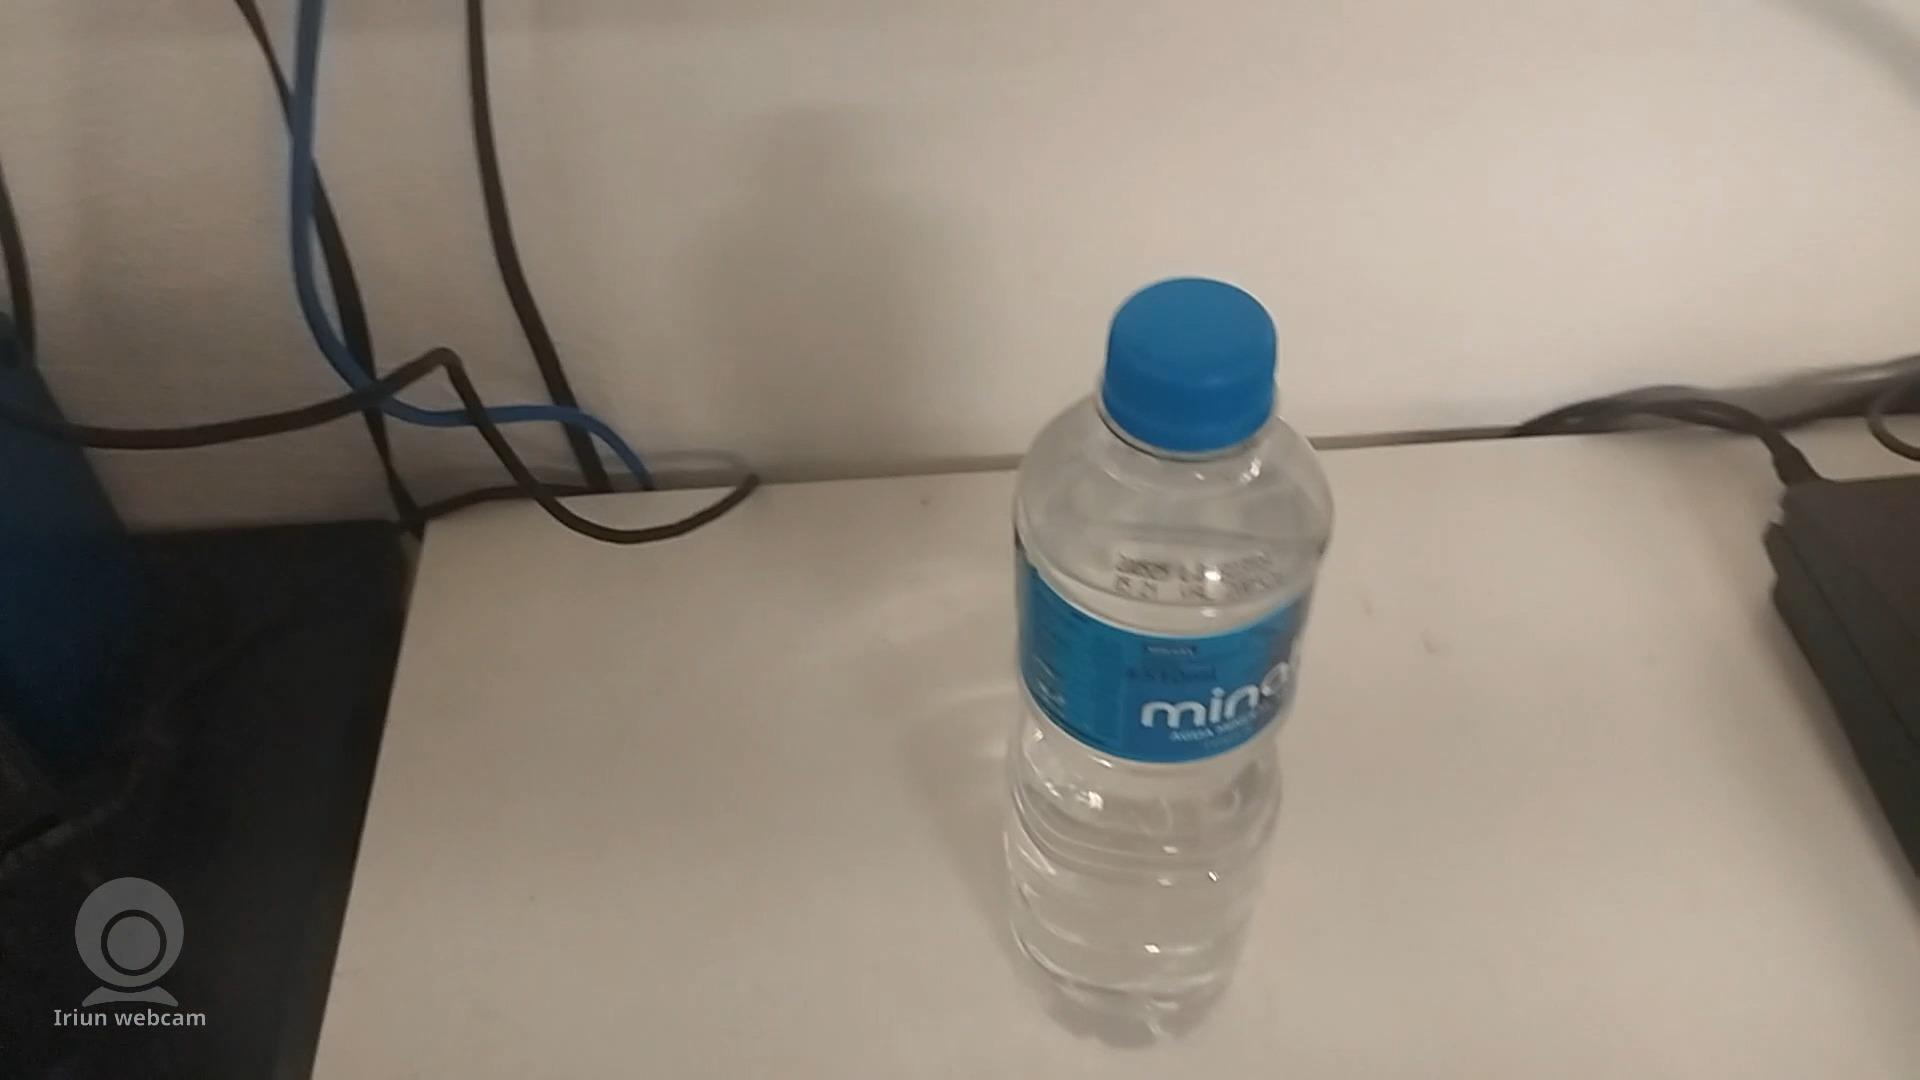agua: (1002, 274, 1331, 1017)
